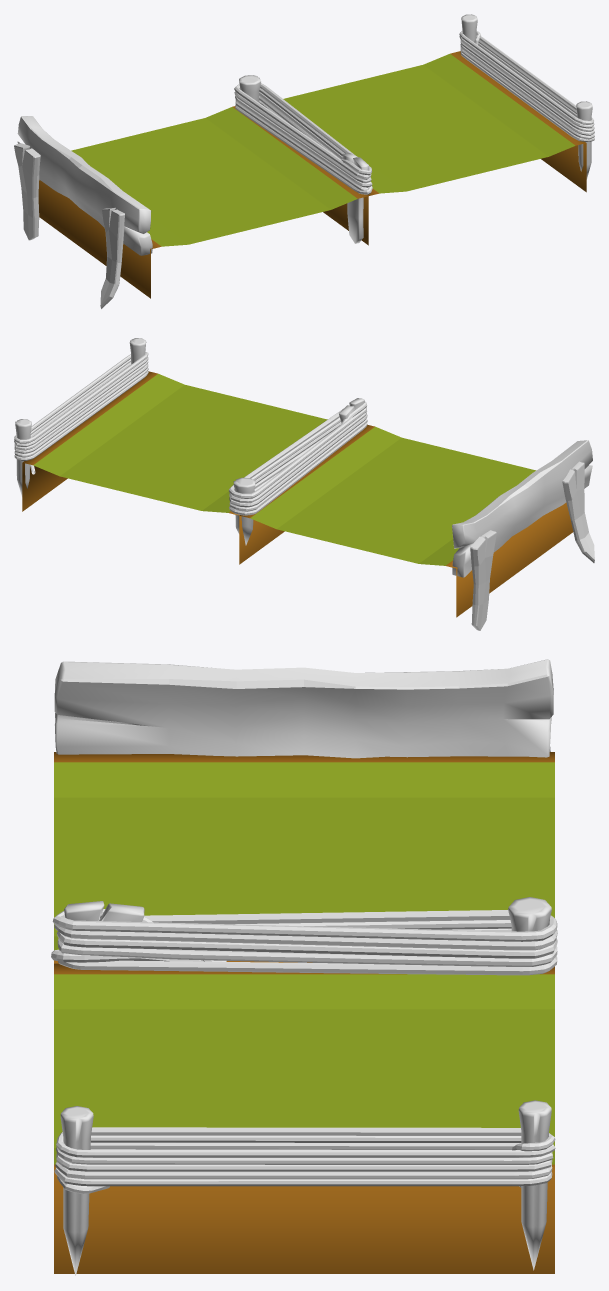
The model's file is Parallel_routes_Sloped.fbx.
3 views of the same model, one above another, from view 1: azimuth 30°, elevation 25°; view 2: azimuth 150°, elevation 25°; view 3: azimuth 270°, elevation 25° (orthographic). The views are drawn at different scales.
Visible parts, largest first — view 1: Cylinder.011; view 2: Cylinder.011; view 3: Cylinder.011.
Boxes of the visible parts, x1,y1,x2,y2 form: Cylinder.011: [14, 14, 594, 308]; Cylinder.011: [14, 338, 594, 630]; Cylinder.011: [51, 659, 557, 1275].
Bounding box in the file's own units: 441 × 100 × 202.
